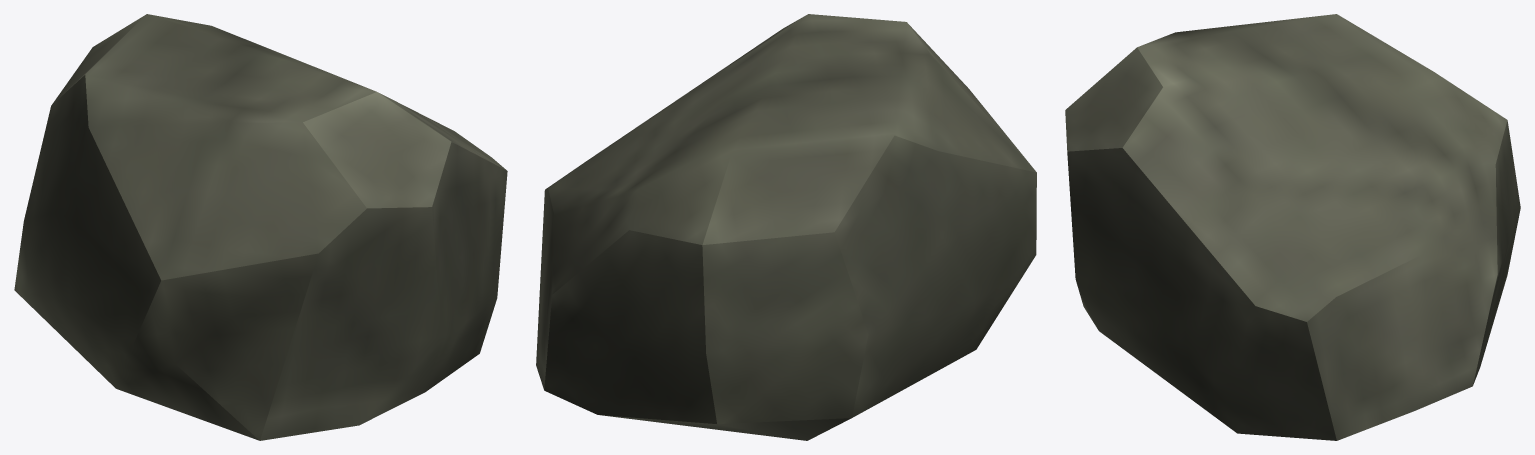
File: Rock_03.fbx
3 renders of one model, left to right at view 1: azimuth 30°, elevation 25°; view 2: azimuth 150°, elevation 25°; view 3: azimuth 270°, elevation 25°, orthographic. The views are drawn at different scales.
Visible parts, largest first — view 1: Rock_03; view 2: Rock_03; view 3: Rock_03.
Part boxes in pixels (<box>): Rock_03: <box>14,14,507,440</box>; Rock_03: <box>536,14,1036,440</box>; Rock_03: <box>1065,14,1520,440</box>.
Size of the model in its own units: 164 by 117 by 169.
1 material, 1 textured.
